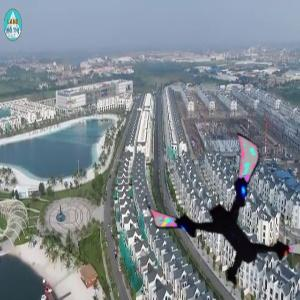drone: (151, 148, 298, 295)
